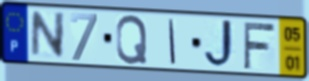7: (69, 12, 99, 62)
F: (241, 21, 277, 71)
I: (168, 17, 178, 67)
J: (203, 18, 238, 70)
N: (29, 10, 67, 60)
Q: (114, 13, 149, 66)
